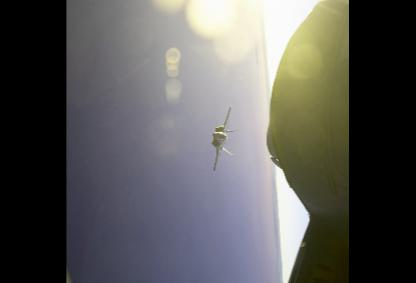F22: (212, 104, 239, 168)
